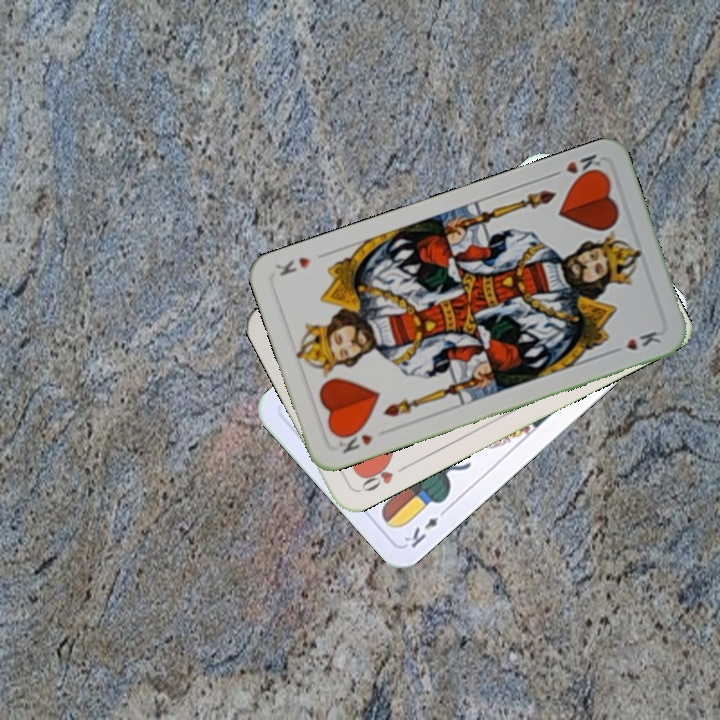EK: (400, 503, 451, 551)
HK: (546, 150, 607, 184), (334, 430, 376, 456)
HO: (355, 457, 410, 495)
